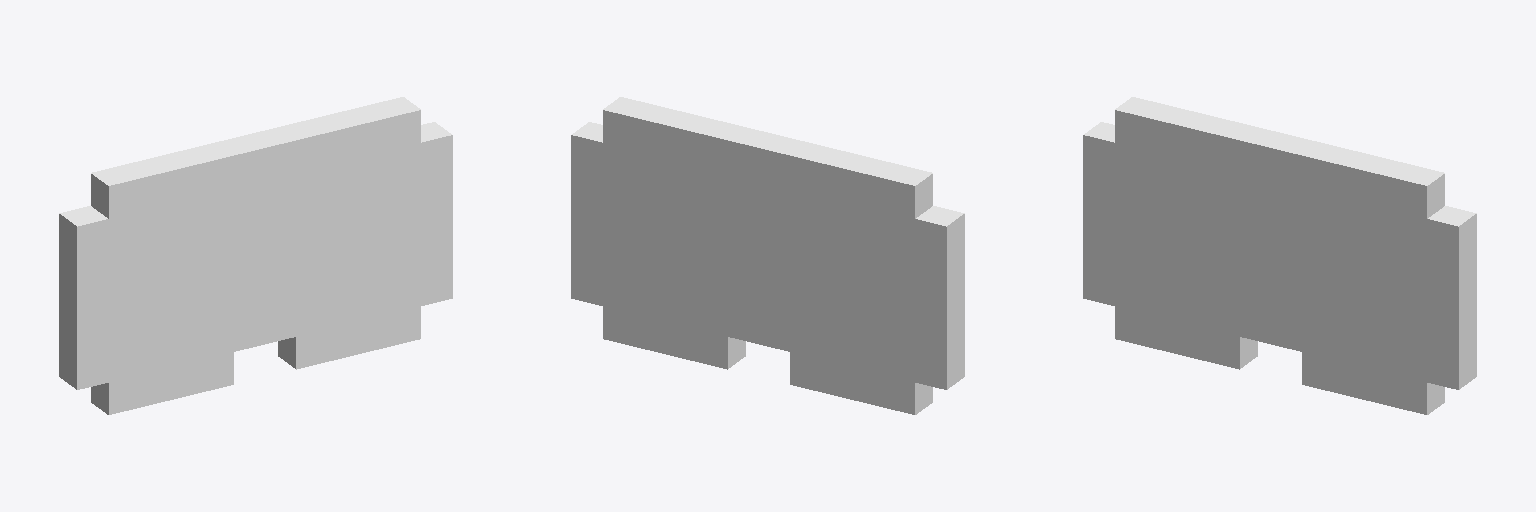
Rendered from PookaGhost1Cardinal.obj.
3 renders of one model, left to right at view 1: azimuth 30°, elevation 25°; view 2: azimuth 150°, elevation 25°; view 3: azimuth 330°, elevation 25°, orthographic.
Parts seen in each view (by area): view 1: PookaGhost1; view 2: PookaGhost1; view 3: PookaGhost1.
Boxes of the visible parts, x1=… form: PookaGhost1: x1=59, y1=97, x2=452, y2=414; PookaGhost1: x1=571, y1=97, x2=964, y2=414; PookaGhost1: x1=1083, y1=97, x2=1476, y2=414.
Bounding box in the file's own units: 1.2 × 0.7 × 0.1.